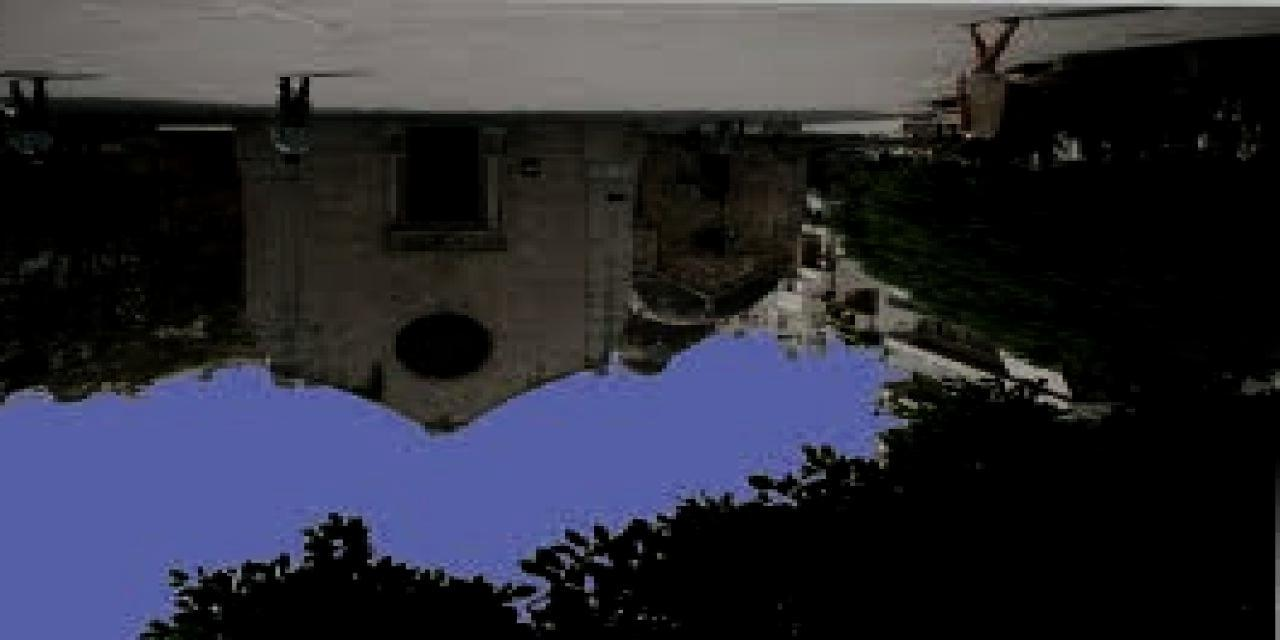Agia Aikaterini: (230, 121, 800, 434)
